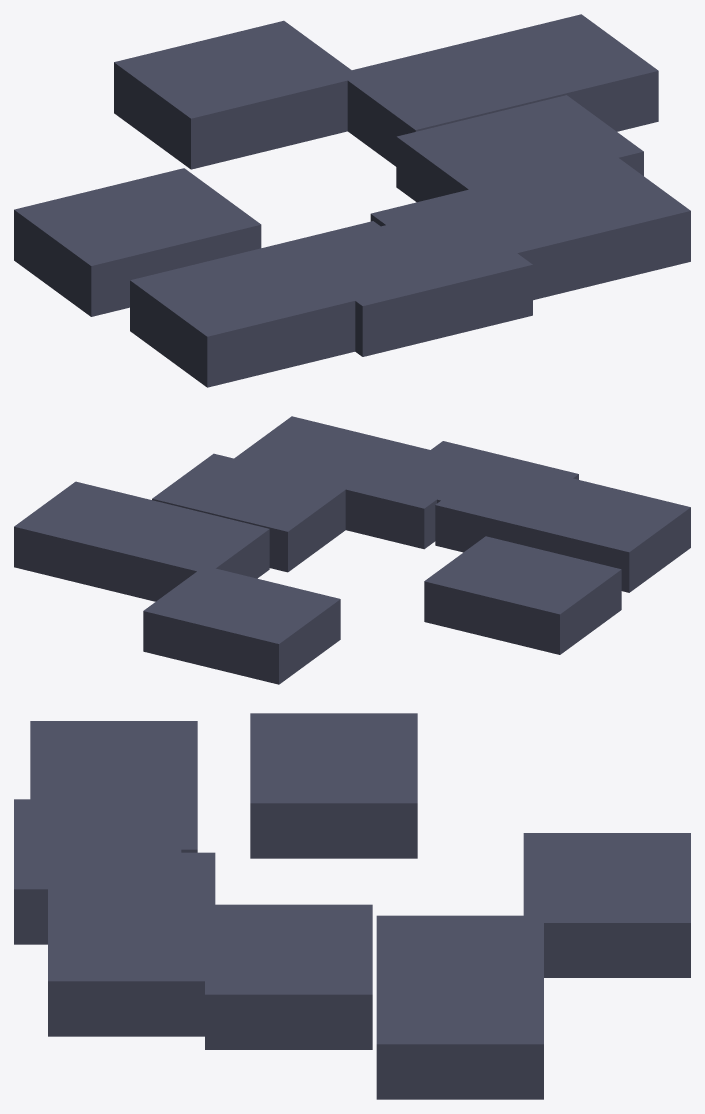
Rendered from stones.obj.
3 renders of one model, top to bottom at view 1: azimuth 30°, elevation 25°; view 2: azimuth 150°, elevation 25°; view 3: azimuth 270°, elevation 25°, orthographic. The views are drawn at different scales.
Visible parts, largest first — view 1: KAGEBOUND_environment; view 2: KAGEBOUND_environment; view 3: KAGEBOUND_environment.
Boxes of the visible parts, x1,y1,x2,y2 form: KAGEBOUND_environment: [14, 14, 690, 387]; KAGEBOUND_environment: [14, 416, 690, 684]; KAGEBOUND_environment: [14, 713, 690, 1099].
Bounding box in the file's own units: 5.15 × 0.4 × 4.45.
